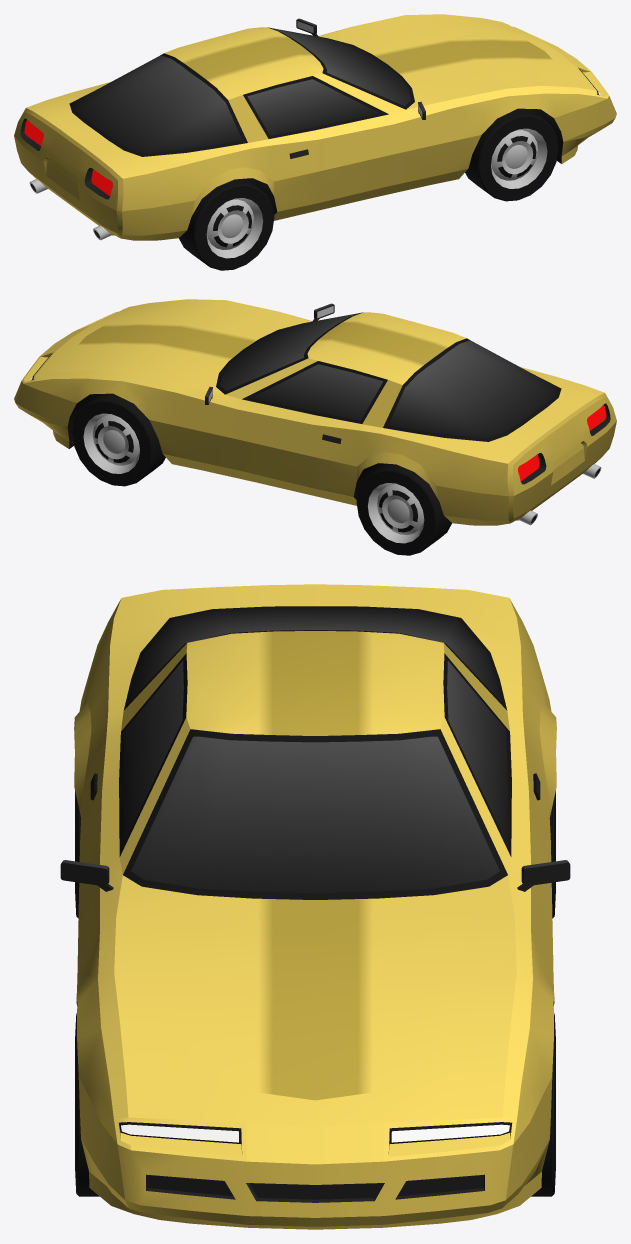
Rendered from Car_210.glb.
The picture shows the model from 3 angles, top to bottom: view 1: azimuth 30°, elevation 25°; view 2: azimuth 150°, elevation 25°; view 3: azimuth 270°, elevation 25°; orthographic projection. The views are drawn at different scales.
Visible parts, largest first — view 1: Car_210, wheel_1_Car_210_Wheel_1R, wheel_3_Car_210_Wheel_2R; view 2: Car_210, wheel_0_Car_210_Wheel_1L, wheel_2_Car_210_Wheel_2L; view 3: Car_210, wheel_1_Car_210_Wheel_1R, wheel_0_Car_210_Wheel_1L.
Part boxes in pixels (bbox=[...]): Car_210: bbox=[14, 14, 616, 240]; wheel_1_Car_210_Wheel_1R: bbox=[465, 108, 558, 201]; wheel_3_Car_210_Wheel_2R: bbox=[179, 178, 274, 270]; Car_210: bbox=[14, 299, 616, 525]; wheel_0_Car_210_Wheel_1L: bbox=[72, 393, 165, 486]; wheel_2_Car_210_Wheel_2L: bbox=[356, 463, 451, 555]; Car_210: bbox=[60, 584, 570, 1229]; wheel_1_Car_210_Wheel_1R: bbox=[75, 1013, 99, 1196]; wheel_0_Car_210_Wheel_1L: bbox=[531, 1013, 555, 1196].
Size of the model in its own units: 4.64 by 1.29 by 1.95.
Materials: 2 (2 with a texture image).
